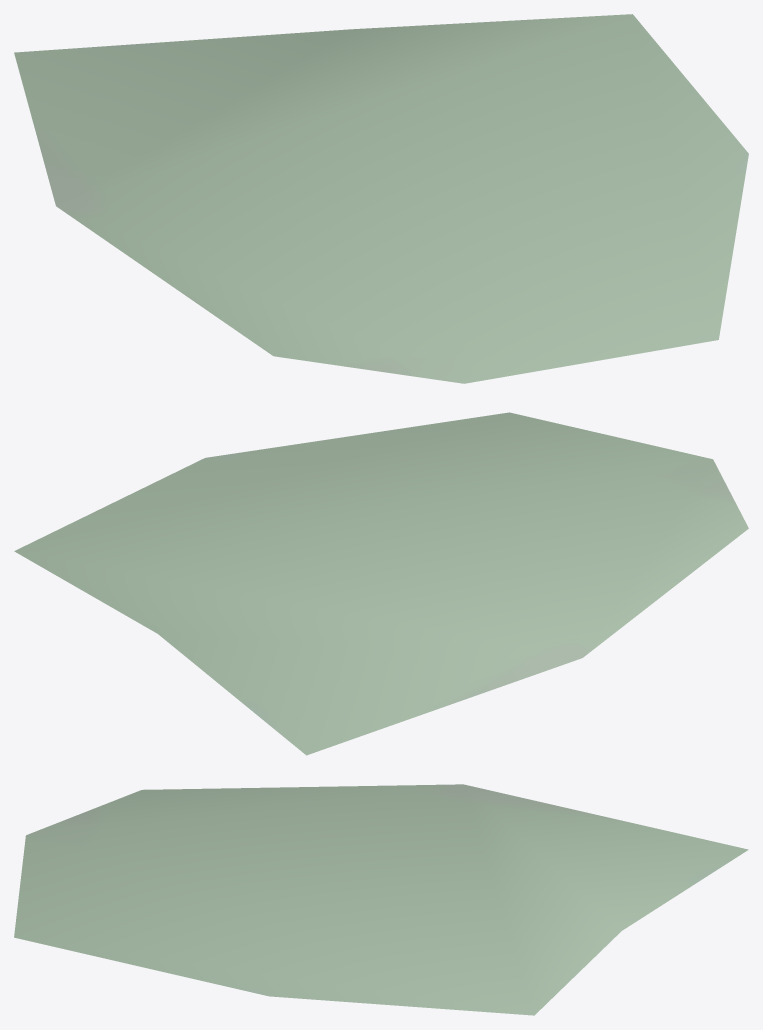
The model's file is TROLLHOLE02_HOLECAP01.fbx.
The picture shows the model from 3 angles, top to bottom: view 1: azimuth 30°, elevation 25°; view 2: azimuth 150°, elevation 25°; view 3: azimuth 270°, elevation 25°; orthographic projection. The views are drawn at different scales.
Visible parts, largest first — view 1: TROLLHOLE02_HOLECAP01; view 2: TROLLHOLE02_HOLECAP01; view 3: TROLLHOLE02_HOLECAP01.
Part boxes in pixels (bbox=[...]): TROLLHOLE02_HOLECAP01: bbox=[14, 14, 748, 383]; TROLLHOLE02_HOLECAP01: bbox=[14, 412, 748, 755]; TROLLHOLE02_HOLECAP01: bbox=[14, 784, 748, 1015].
Bounding box in the file's own units: 20622 × 689 × 27067.
Materials: 1 (1 with a texture image).
